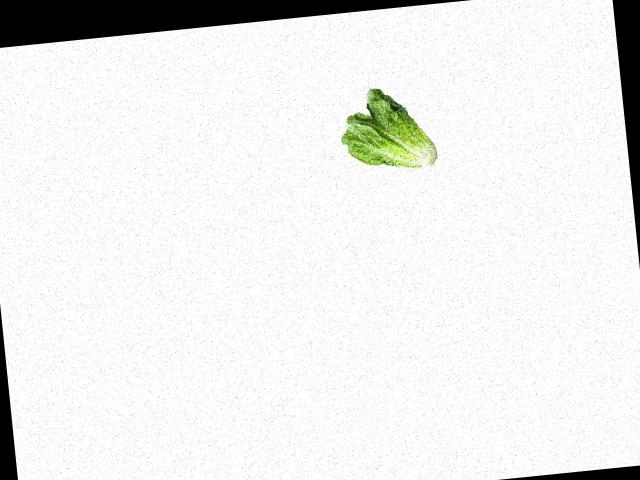lettuce: (336, 78, 444, 182)
